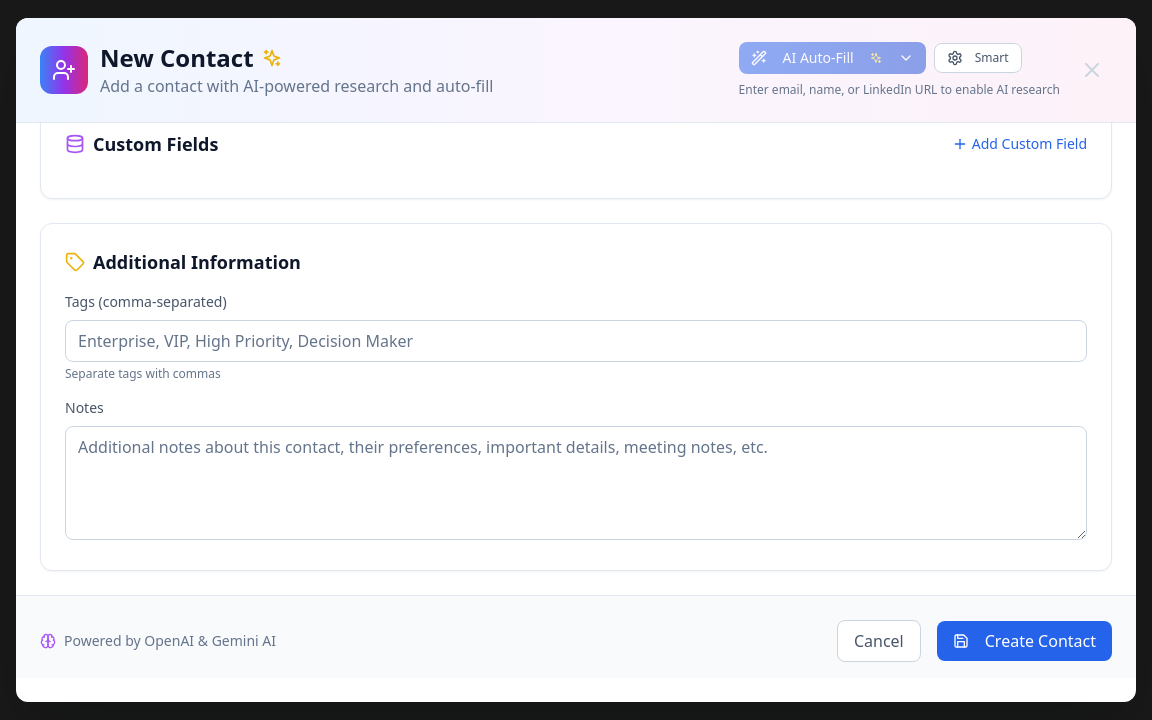
Test: SmartCRM Dashboard - Comprehensive Production Tests › 1. Contact Management System › NewContactModal - Contact Creation › should validate required fields
The image size is (1152, 720).
(page scrolled)
Click the button "Create Contact".
click(1024, 641)  # box [937, 621, 1112, 661]
(page scrolled)
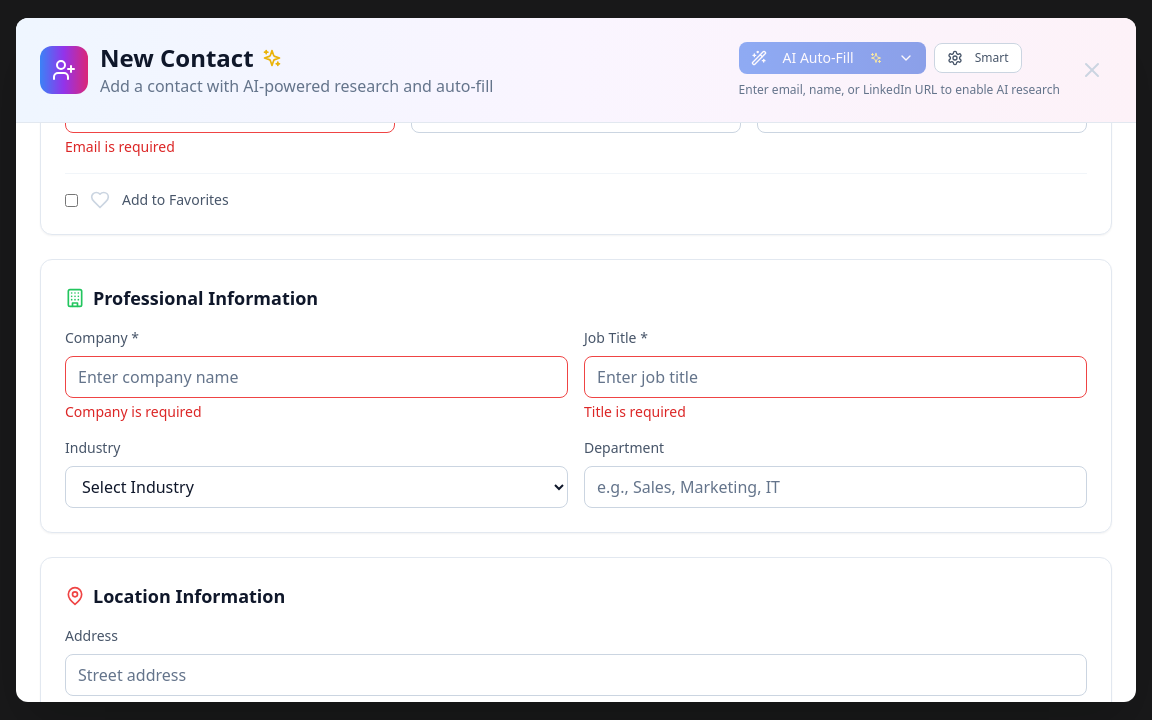
Expected: the text "Email is required" is shown, [65, 137, 175, 156]
Expected: the text "Company is required" is shown, [65, 402, 202, 421]
Expected: the text "Title is required" is shown, [584, 402, 686, 421]
